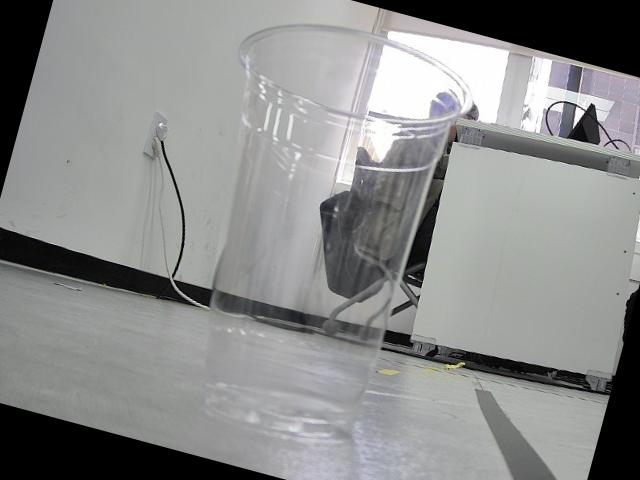Plastik: (206, 24, 472, 438)
